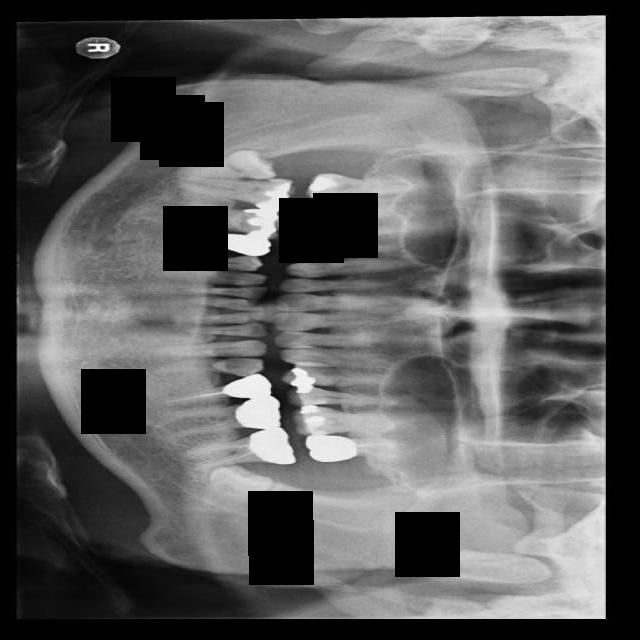52: (244, 421, 297, 476), (231, 201, 286, 241), (232, 394, 281, 432), (302, 168, 355, 203), (244, 177, 296, 212), (224, 370, 273, 407), (219, 230, 271, 258), (291, 405, 335, 436), (280, 361, 327, 387), (297, 199, 340, 226), (291, 222, 336, 246), (287, 243, 329, 263), (286, 385, 322, 407)
73: (157, 223, 230, 248), (158, 384, 231, 409)
BioHorizons Implant: (303, 434, 408, 465)
Biomet 3i Implant: (206, 459, 276, 505)
Blue Sky Bio Implant: (186, 426, 296, 471)
Caries: (306, 173, 437, 200)
Implant: (170, 176, 296, 212)
Keystone Dental Implant: (177, 148, 277, 180)
